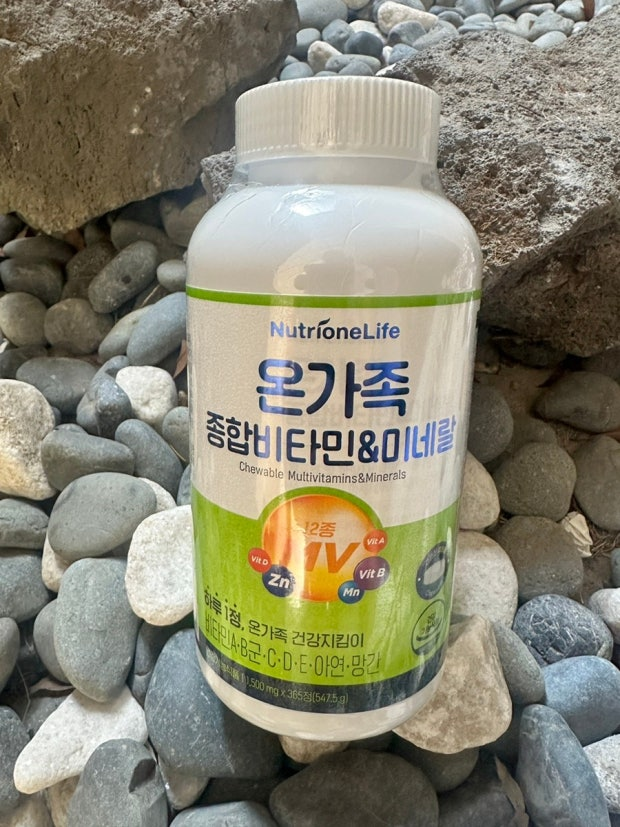supplement_label: (174, 277, 488, 718)
